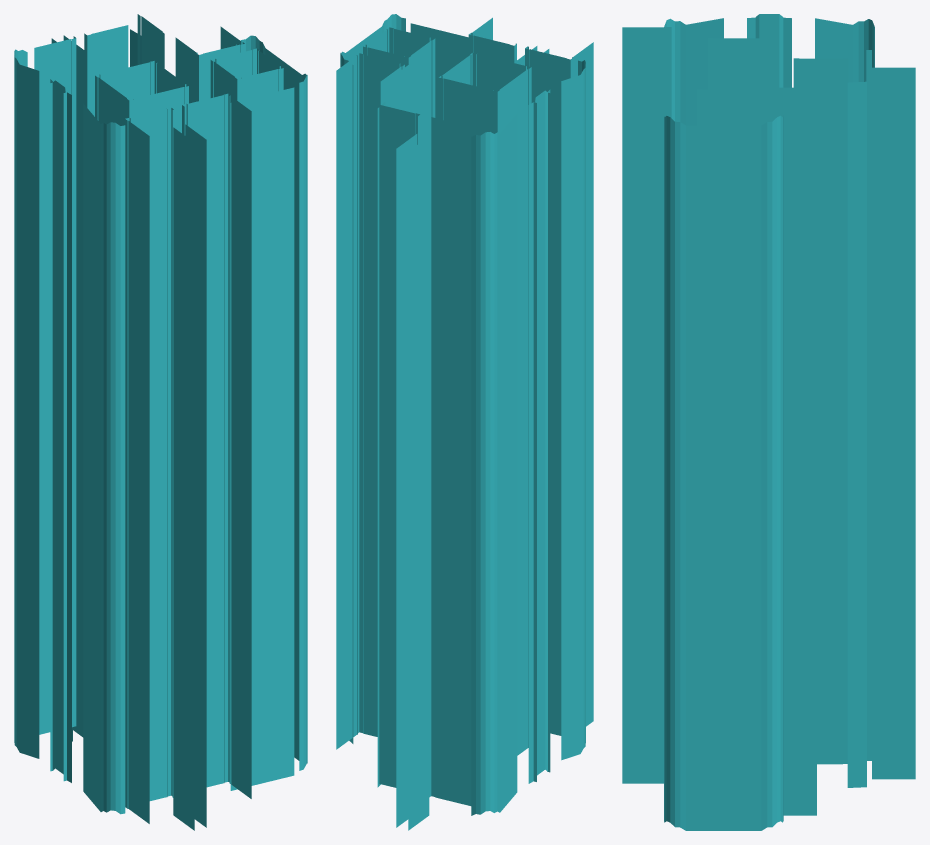
File: Dragonfly_Neighbourhood_InvisibleWalls.fbx
3 renders of one model, left to right at view 1: azimuth 30°, elevation 25°; view 2: azimuth 150°, elevation 25°; view 3: azimuth 270°, elevation 25°, orthographic. The views are drawn at different scales.
Visible parts, largest first — view 1: InvisWalls; view 2: InvisWalls; view 3: InvisWalls.
Part boxes in pixels (x1,y1,x2,y2): InvisWalls: (14, 14, 307, 830); InvisWalls: (336, 14, 593, 830); InvisWalls: (622, 14, 915, 830).
Bounding box in the file's own units: 153 × 515 × 185.
